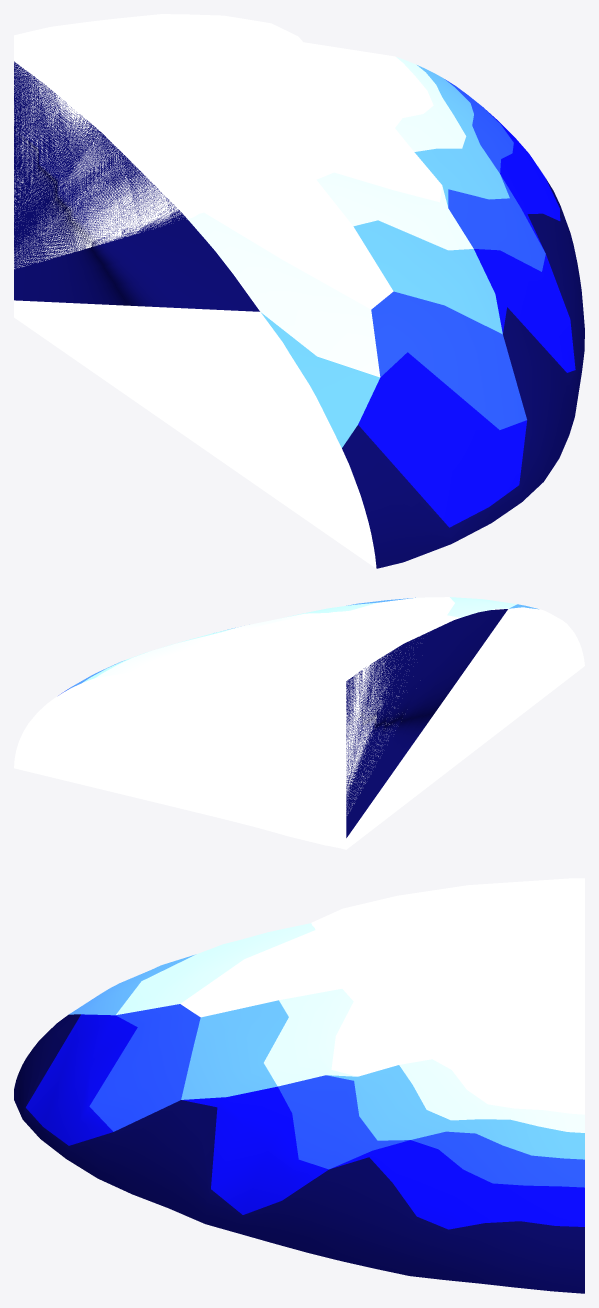
File: shot_megacannon_b118.glb
3 views of the same model, one above another, from view 1: azimuth 30°, elevation 25°; view 2: azimuth 150°, elevation 25°; view 3: azimuth 270°, elevation 25° (orthographic). The views are drawn at different scales.
Parts seen in each view (by area): view 1: megacannon_blast_blue_b118, megacannon_blast_core_blue_b118; view 2: megacannon_blast_blue_b118, megacannon_blast_core_blue_b118; view 3: megacannon_blast_blue_b118, megacannon_blast_core_blue_b118.
Boxes of the visible parts, left/top/right/bottom form: megacannon_blast_blue_b118: left=14, top=42, right=584, bottom=568; megacannon_blast_core_blue_b118: left=14, top=14, right=330, bottom=268; megacannon_blast_blue_b118: left=14, top=597, right=584, bottom=849; megacannon_blast_core_blue_b118: left=159, top=608, right=460, bottom=816; megacannon_blast_blue_b118: left=14, top=923, right=584, bottom=1293; megacannon_blast_core_blue_b118: left=311, top=878, right=584, bottom=1043.
Size of the model in its own units: 11.06 by 5.93 by 13.76.
